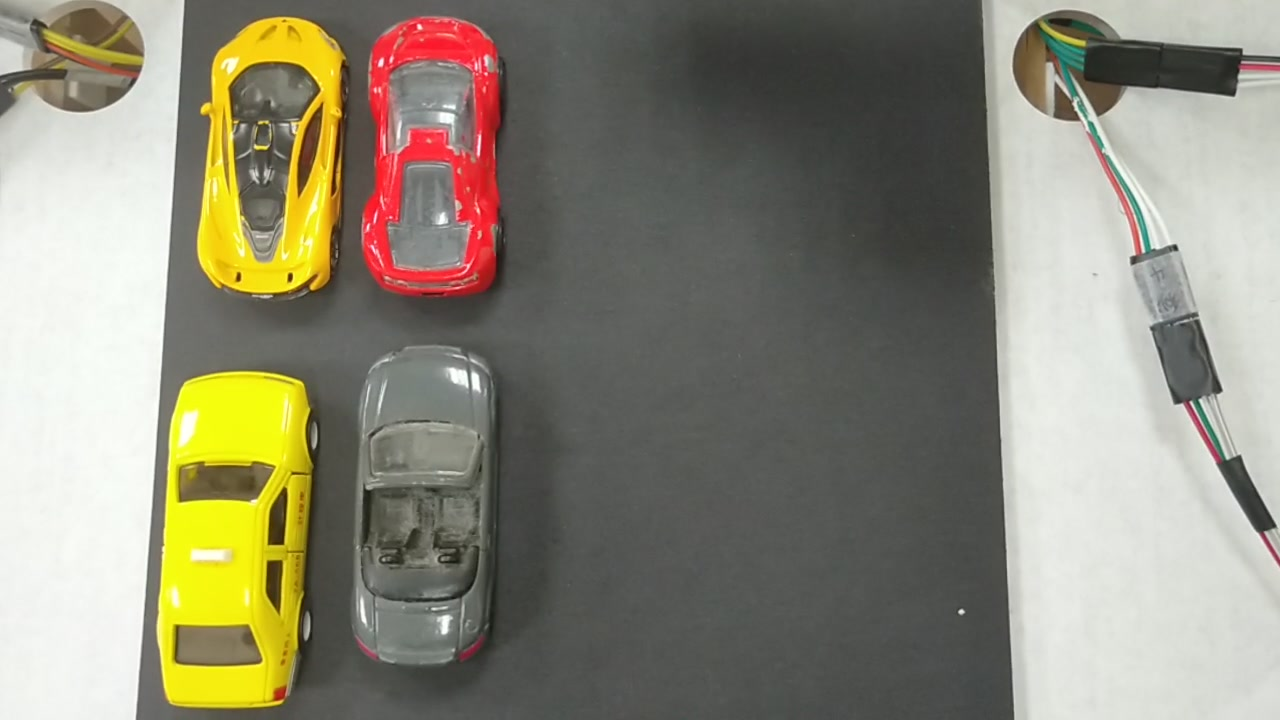car: (162, 378, 314, 700), (354, 348, 506, 667), (201, 17, 356, 302), (365, 17, 496, 293)
